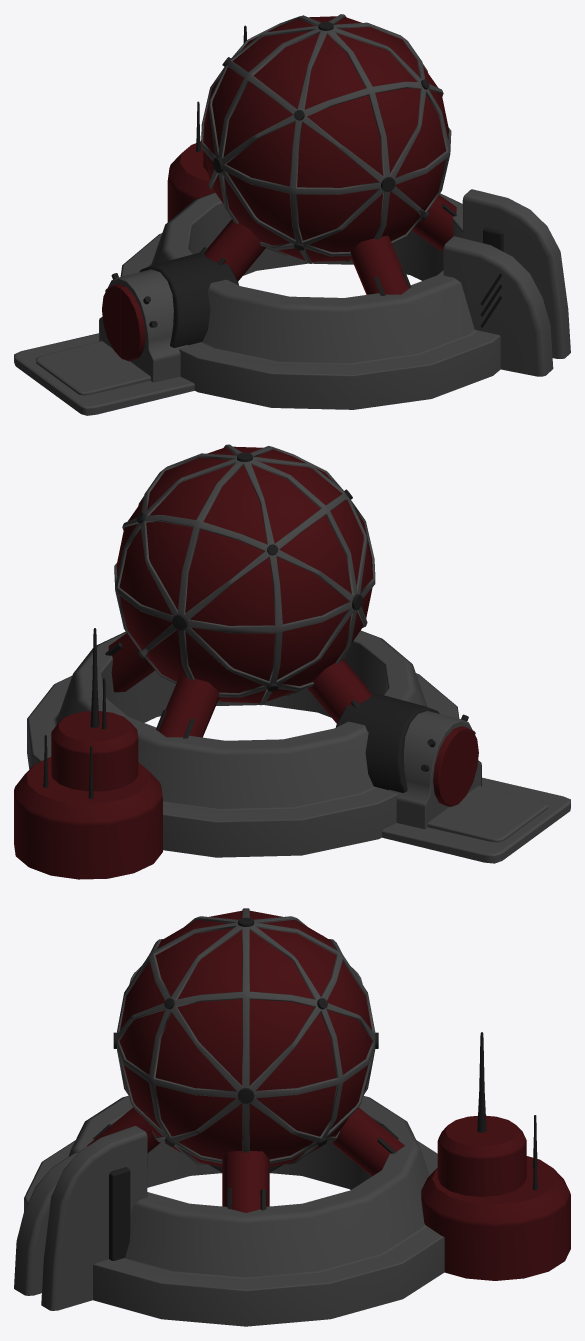
File: colony_Research_center.glb
3 views of the same model, one above another, from view 1: azimuth 30°, elevation 25°; view 2: azimuth 150°, elevation 25°; view 3: azimuth 270°, elevation 25° (orthographic). The views are drawn at different scales.
Visible parts, largest first — view 1: Research_center; view 2: Research_center; view 3: Research_center.
Boxes of the visible parts, x1,y1,x2,y2 form: Research_center: (14,14,570,415); Research_center: (14,444,570,879); Research_center: (14,908,570,1326).
Bounding box in the file's own units: 1551 × 953 × 1542.
1 material, 1 textured.
